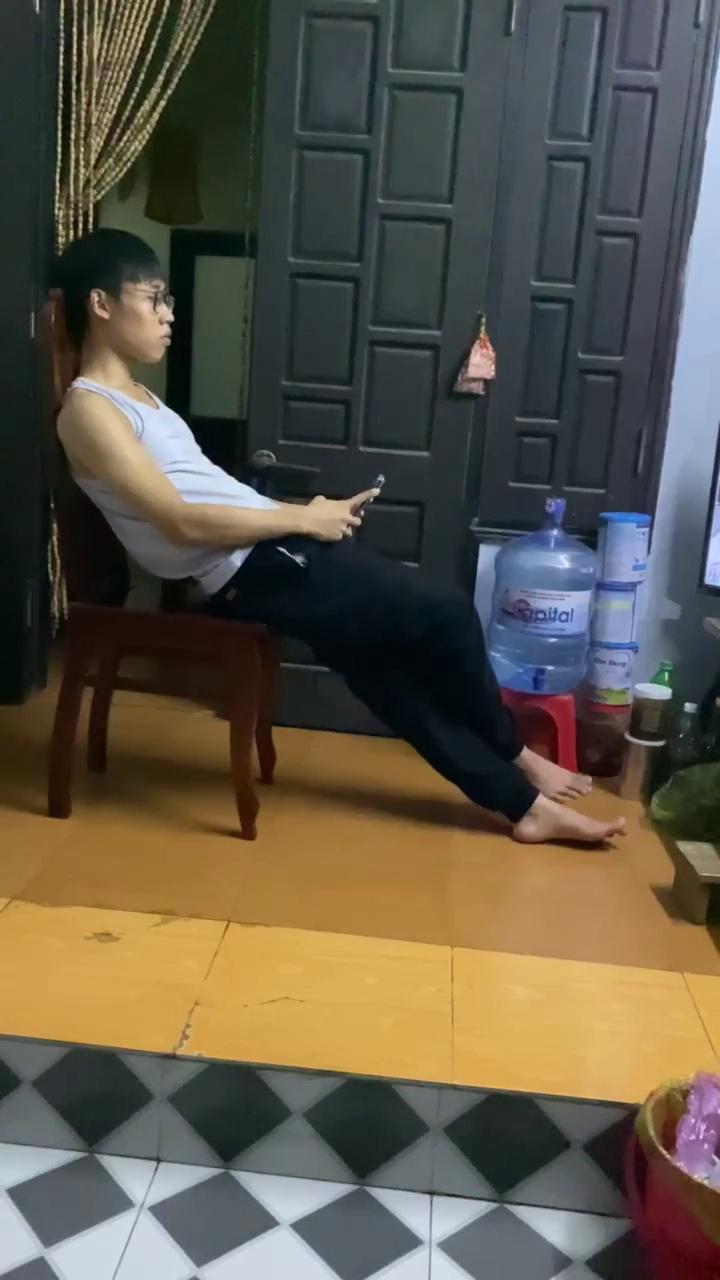BadPosture: (56, 229, 623, 846)
